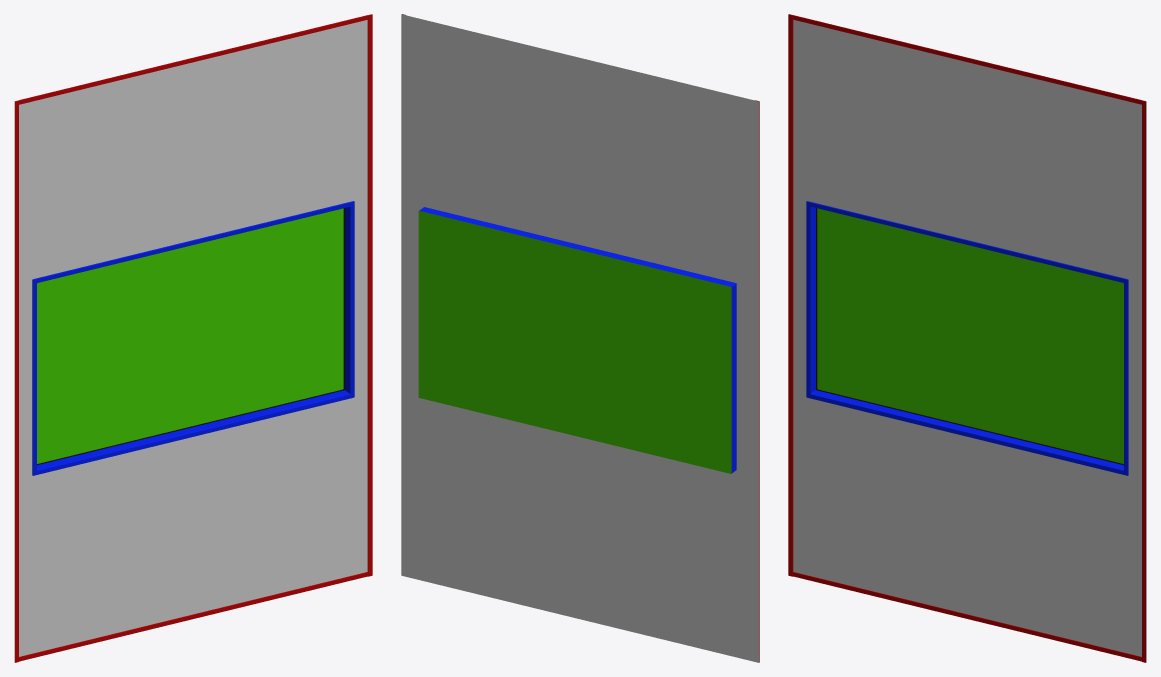
File: Wall02bWindow.fbx
The picture shows the model from 3 angles, left to right: view 1: azimuth 30°, elevation 25°; view 2: azimuth 150°, elevation 25°; view 3: azimuth 330°, elevation 25°; orthographic projection.
Parts seen in each view (by area): view 1: Wall02bWindow; view 2: Wall02bWindow; view 3: Wall02bWindow.
Part boxes in pixels (x1,y1,x2,y2): Wall02bWindow: (14,14,372,662); Wall02bWindow: (401,14,759,662); Wall02bWindow: (788,14,1146,662).
Size of the model in its own units: 200 by 300 by 5.5.
